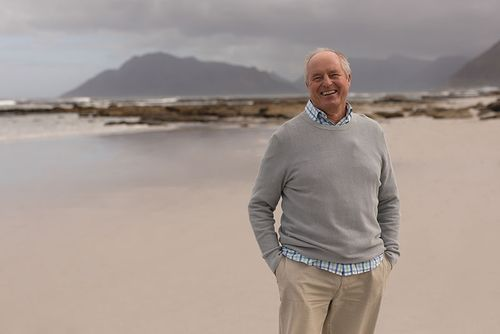standing: (245, 41, 401, 334)
